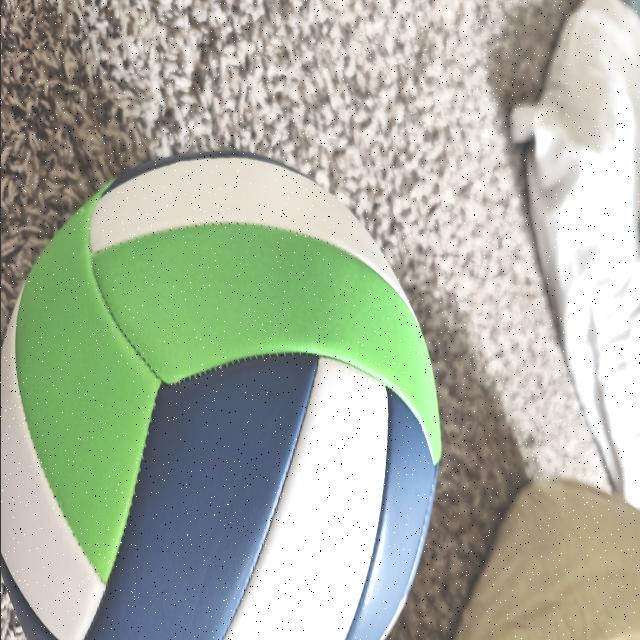ball: (0, 150, 425, 640)
